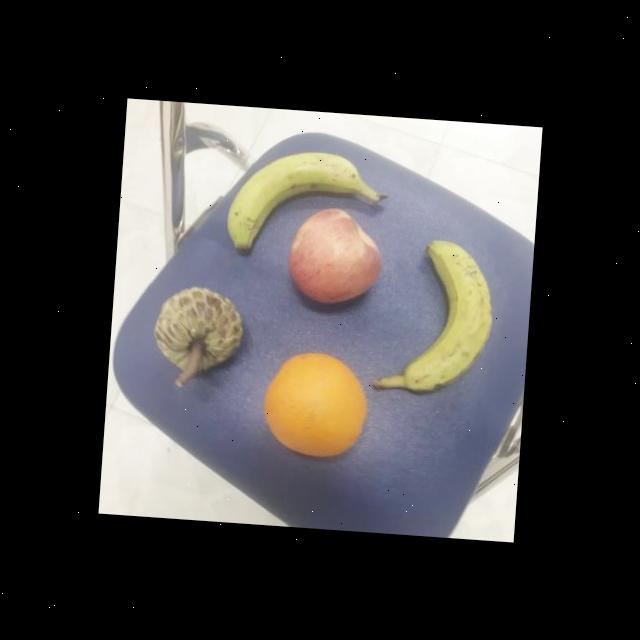Sakya fruit: (147, 284, 250, 384)
apple: (284, 204, 388, 316)
banana: (220, 143, 388, 264), (392, 230, 501, 397)
orange: (252, 345, 373, 464)
